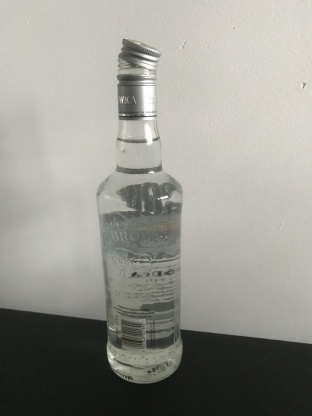nakretka: (115, 36, 161, 120)
